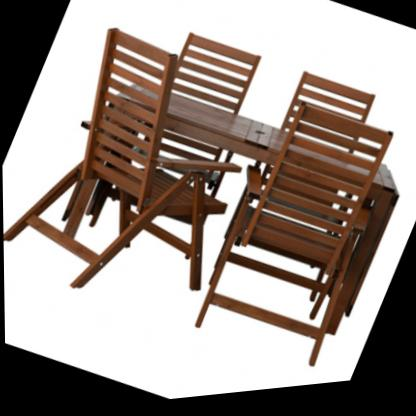Chair: (179, 87, 411, 385)
